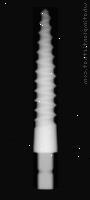3M ESPE: (30, 7, 59, 188)
